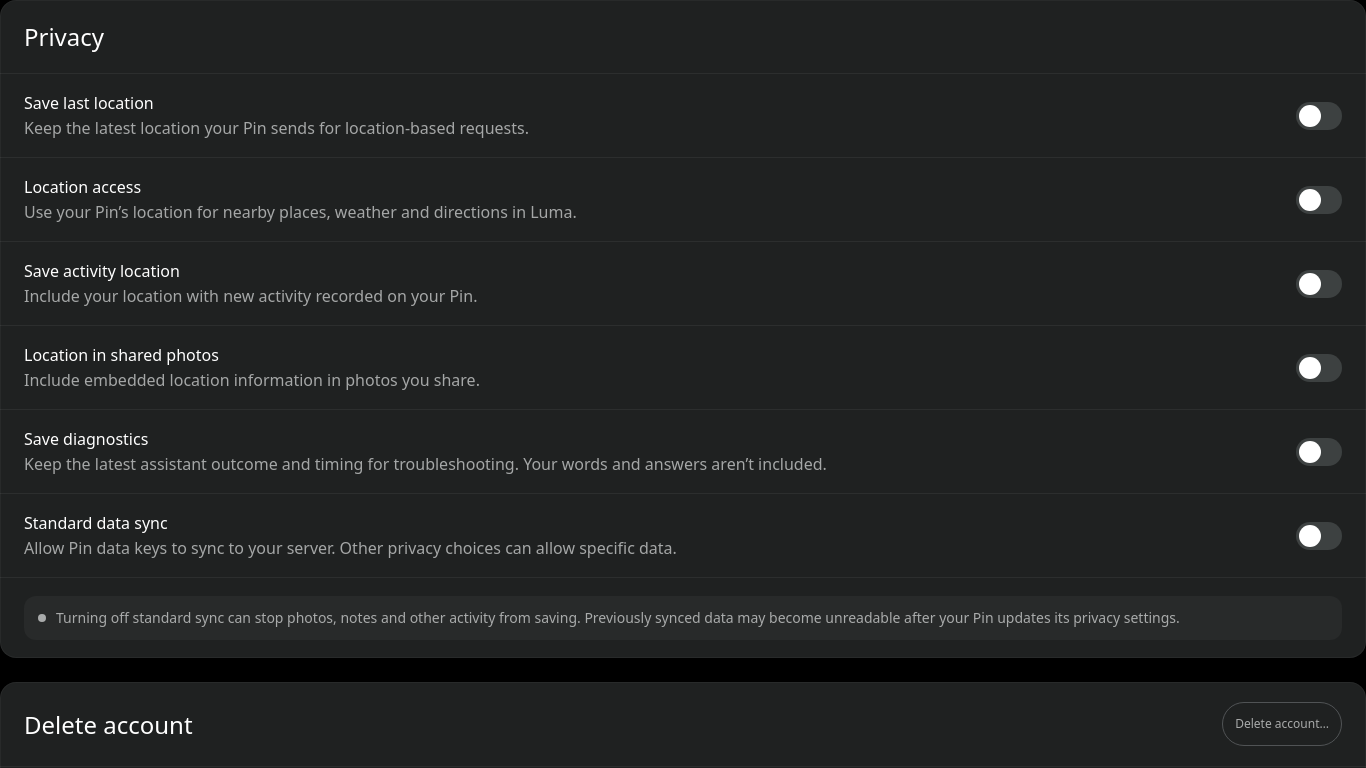
explains Pin privacy choices without promising unsupported protection and keeps rejected changes unchanged
Expected: the number of elements with test id "privacy-setting-row" is 6, [0,74,1365,158]; [0,158,1365,242]; [0,242,1365,326]; [0,326,1365,410]; [0,410,1365,494]; [0,494,1365,578]
Expected: the text "Include your location with new activity recorded on your Pin." is shown, [24,285,477,307]
Click the switch named "Save activity location": (1319, 284) [1296,270,1342,298]
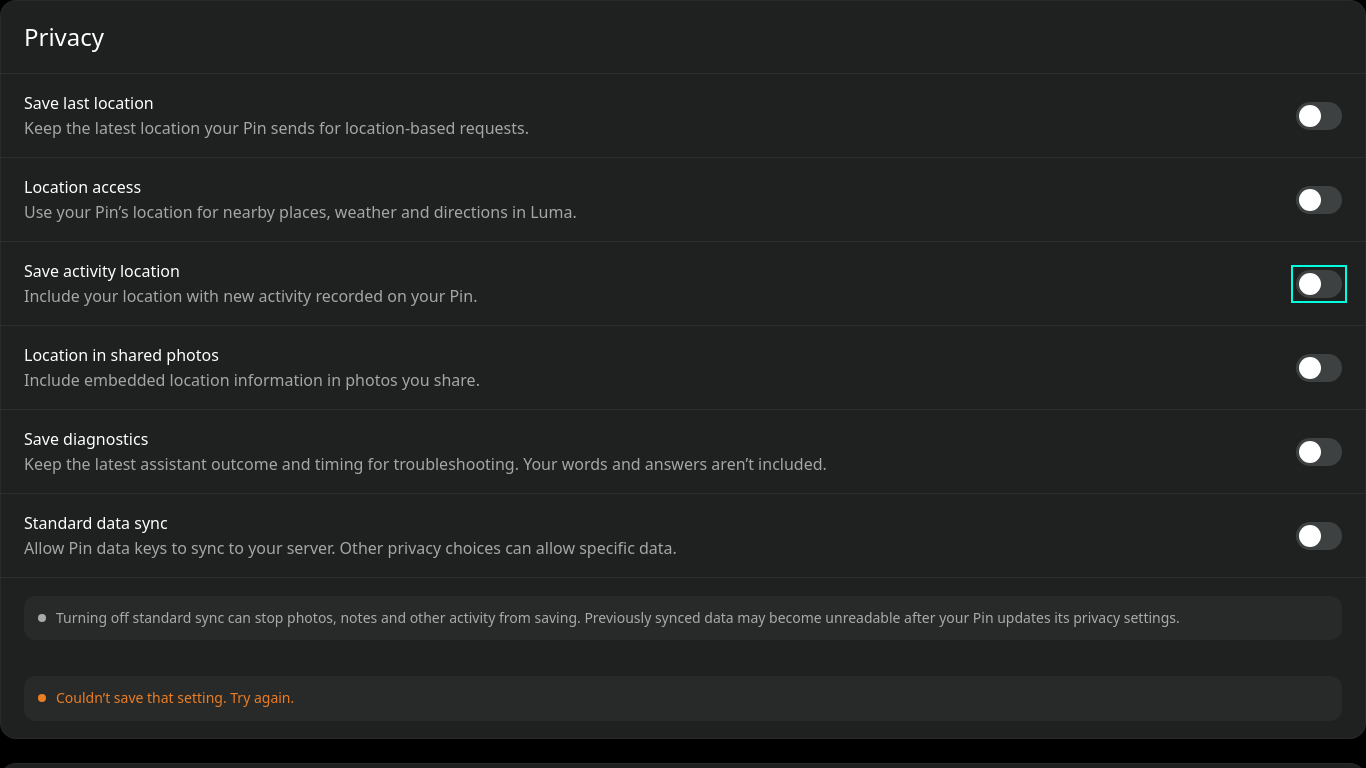
Now the text "Couldn’t save that setting. Try again." is shown, box [56,688,294,707]
